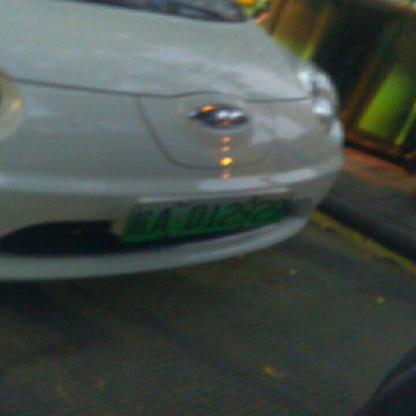lp: (117, 197, 291, 241)
